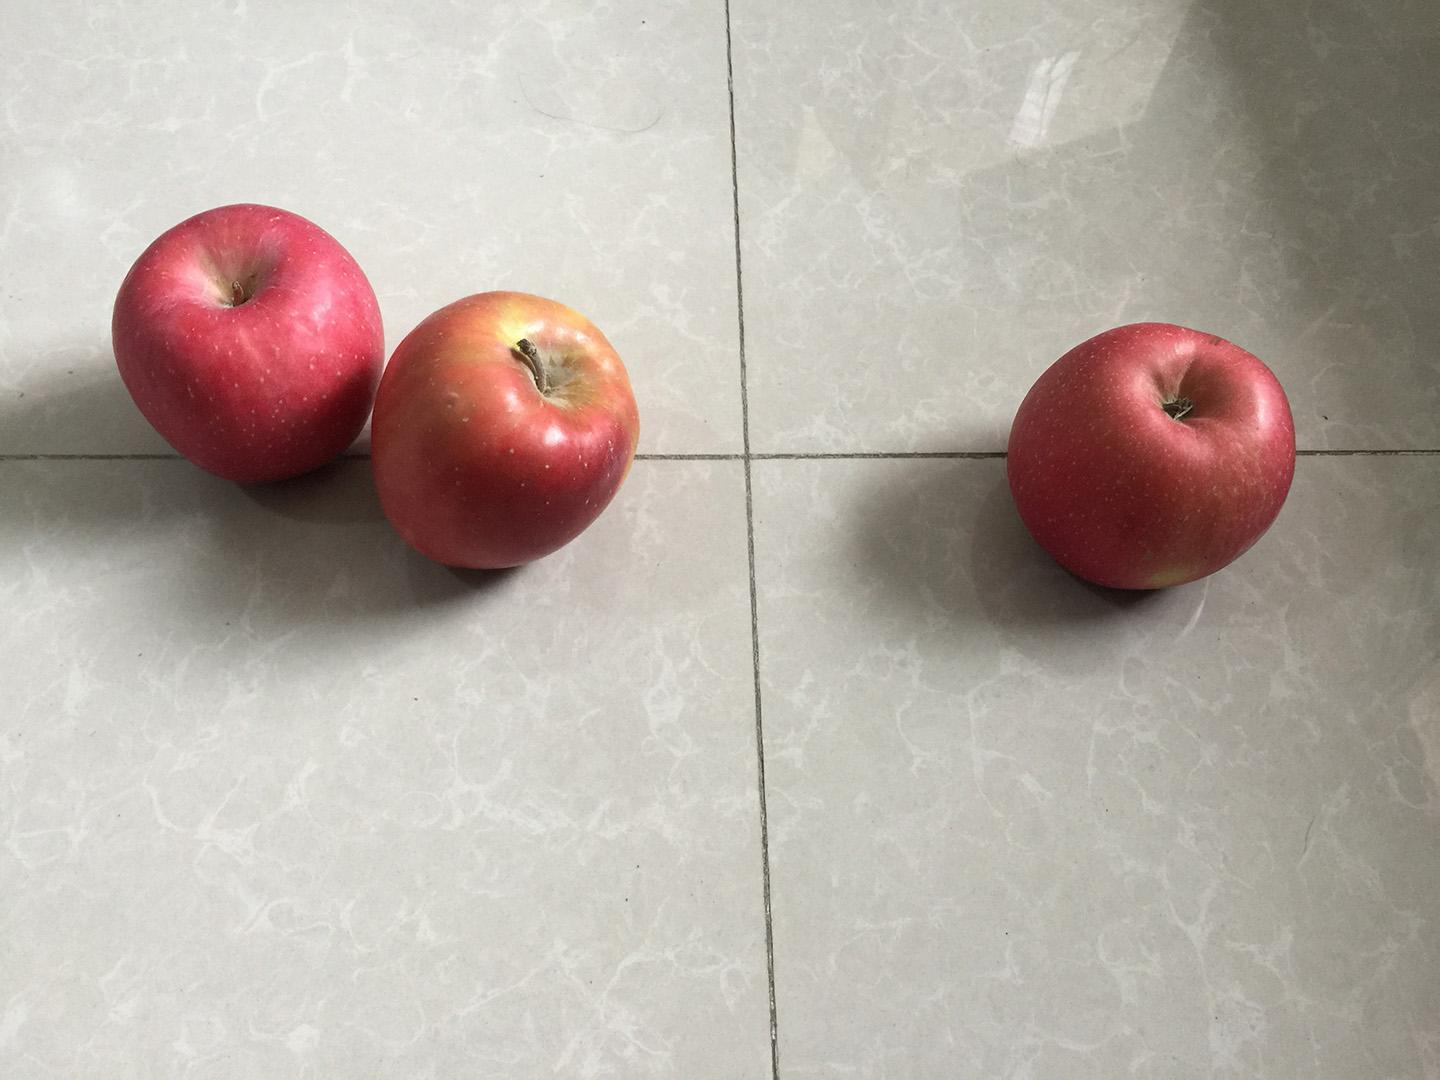apple: (997, 313, 1303, 596), (110, 199, 391, 486), (367, 286, 646, 574)
